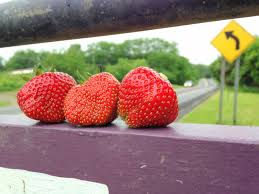ripe: (115, 62, 188, 132), (13, 68, 76, 126), (60, 73, 126, 123)
